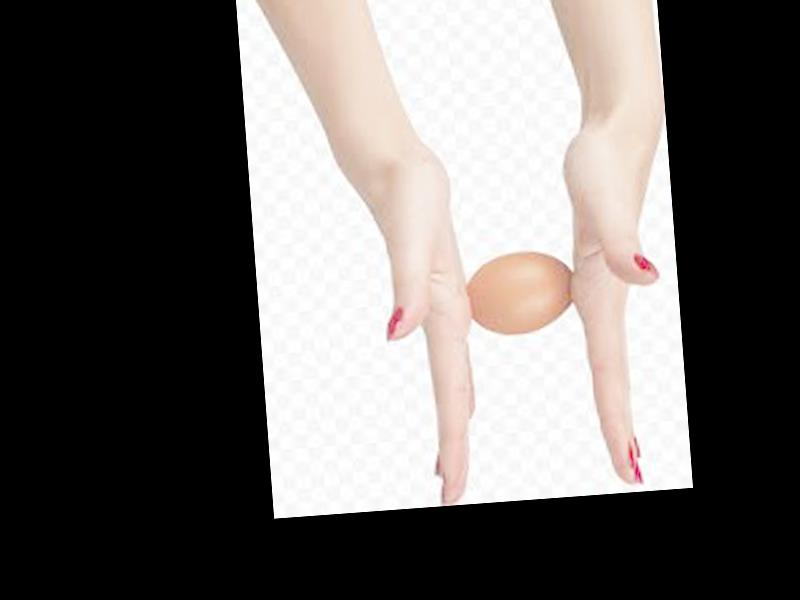Eggs: (463, 248, 575, 335)
